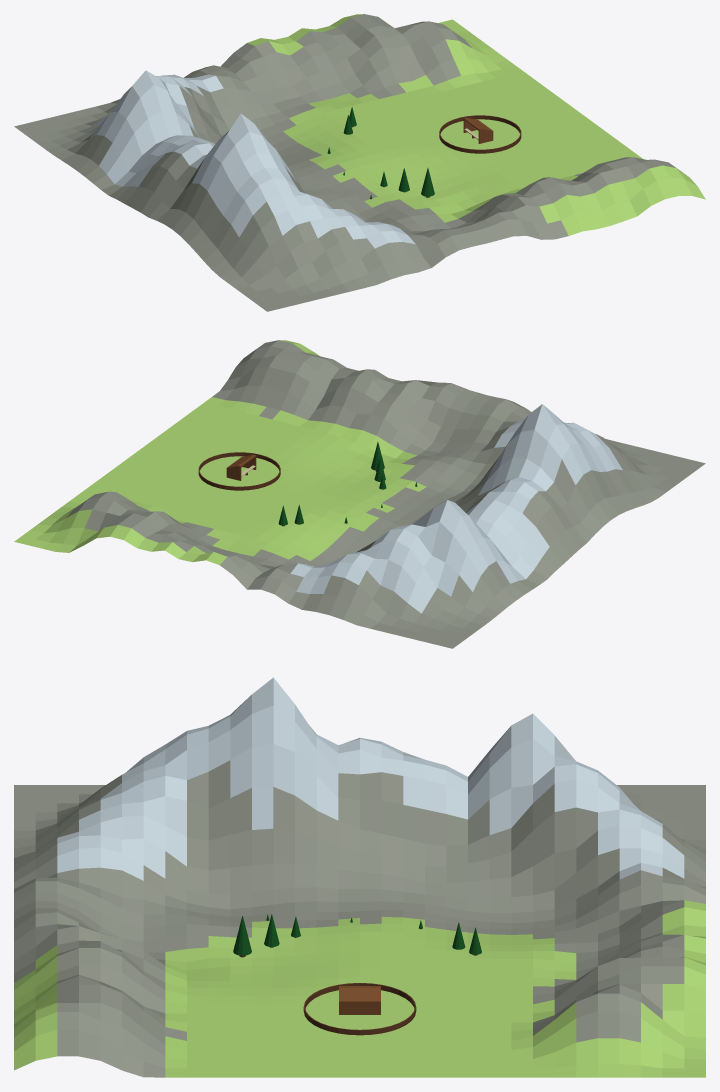
File: Clay Shooting Scene.fbx
3 renders of one model, top to bottom at view 1: azimuth 30°, elevation 25°; view 2: azimuth 150°, elevation 25°; view 3: azimuth 270°, elevation 25°, orthographic. The views are drawn at different scales.
Parts seen in each view (by area): view 1: Plane, Cylinder, Cube; view 2: Plane, Cylinder, Cube; view 3: Plane, Cylinder, Cube.
Part boxes in pixels (<box>): Plane: <box>14,14,705,311</box>; Cylinder: <box>439,115,521,153</box>; Cube: <box>463,117,493,143</box>; Plane: <box>14,340,705,648</box>; Cylinder: <box>198,452,280,490</box>; Cube: <box>226,454,256,480</box>; Plane: <box>14,677,705,1077</box>; Cylinder: <box>303,983,416,1035</box>; Cube: <box>339,986,380,1014</box>.
Bounding box in the file's own units: 10206 × 2810 × 10206.
